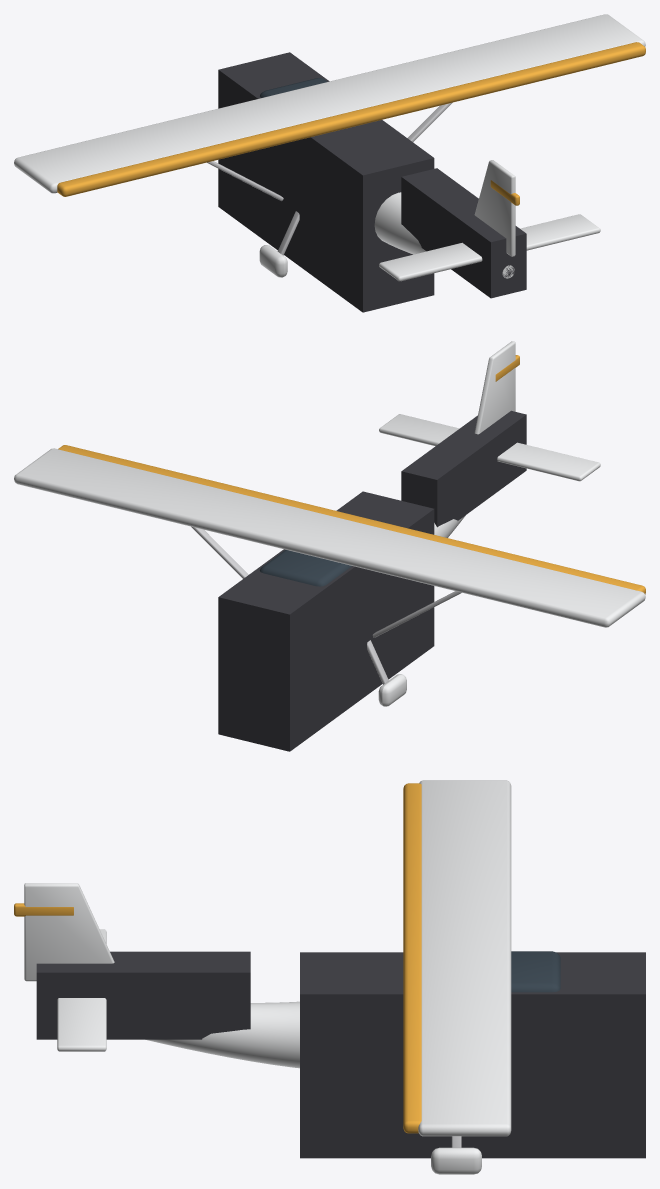
The picture shows the model from 3 angles, top to bottom: view 1: azimuth 30°, elevation 25°; view 2: azimuth 150°, elevation 25°; view 3: azimuth 270°, elevation 25°; orthographic projection. The views are drawn at different scales.
Parts seen in each view (by area): view 1: plane, plane-shell; view 2: plane, plane-shell; view 3: plane-shell, plane.
Part boxes in pixels (x1=…): plane: x1=14, y1=14, x2=645, y2=281; plane-shell: x1=218, y1=52, x2=526, y2=312; plane: x1=14, y1=341, x2=645, y2=706; plane-shell: x1=218, y1=410, x2=526, y2=751; plane-shell: x1=36, y1=951, x2=645, y2=1158; plane: x1=14, y1=780, x2=560, y2=1174.
Bounding box in the file's own units: 10 × 3.42 × 7.67.
